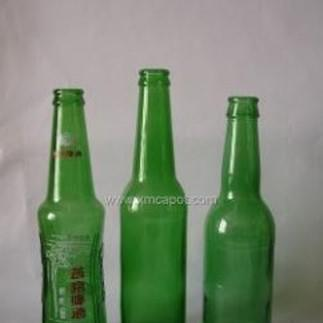beer: (36, 69, 272, 323)
